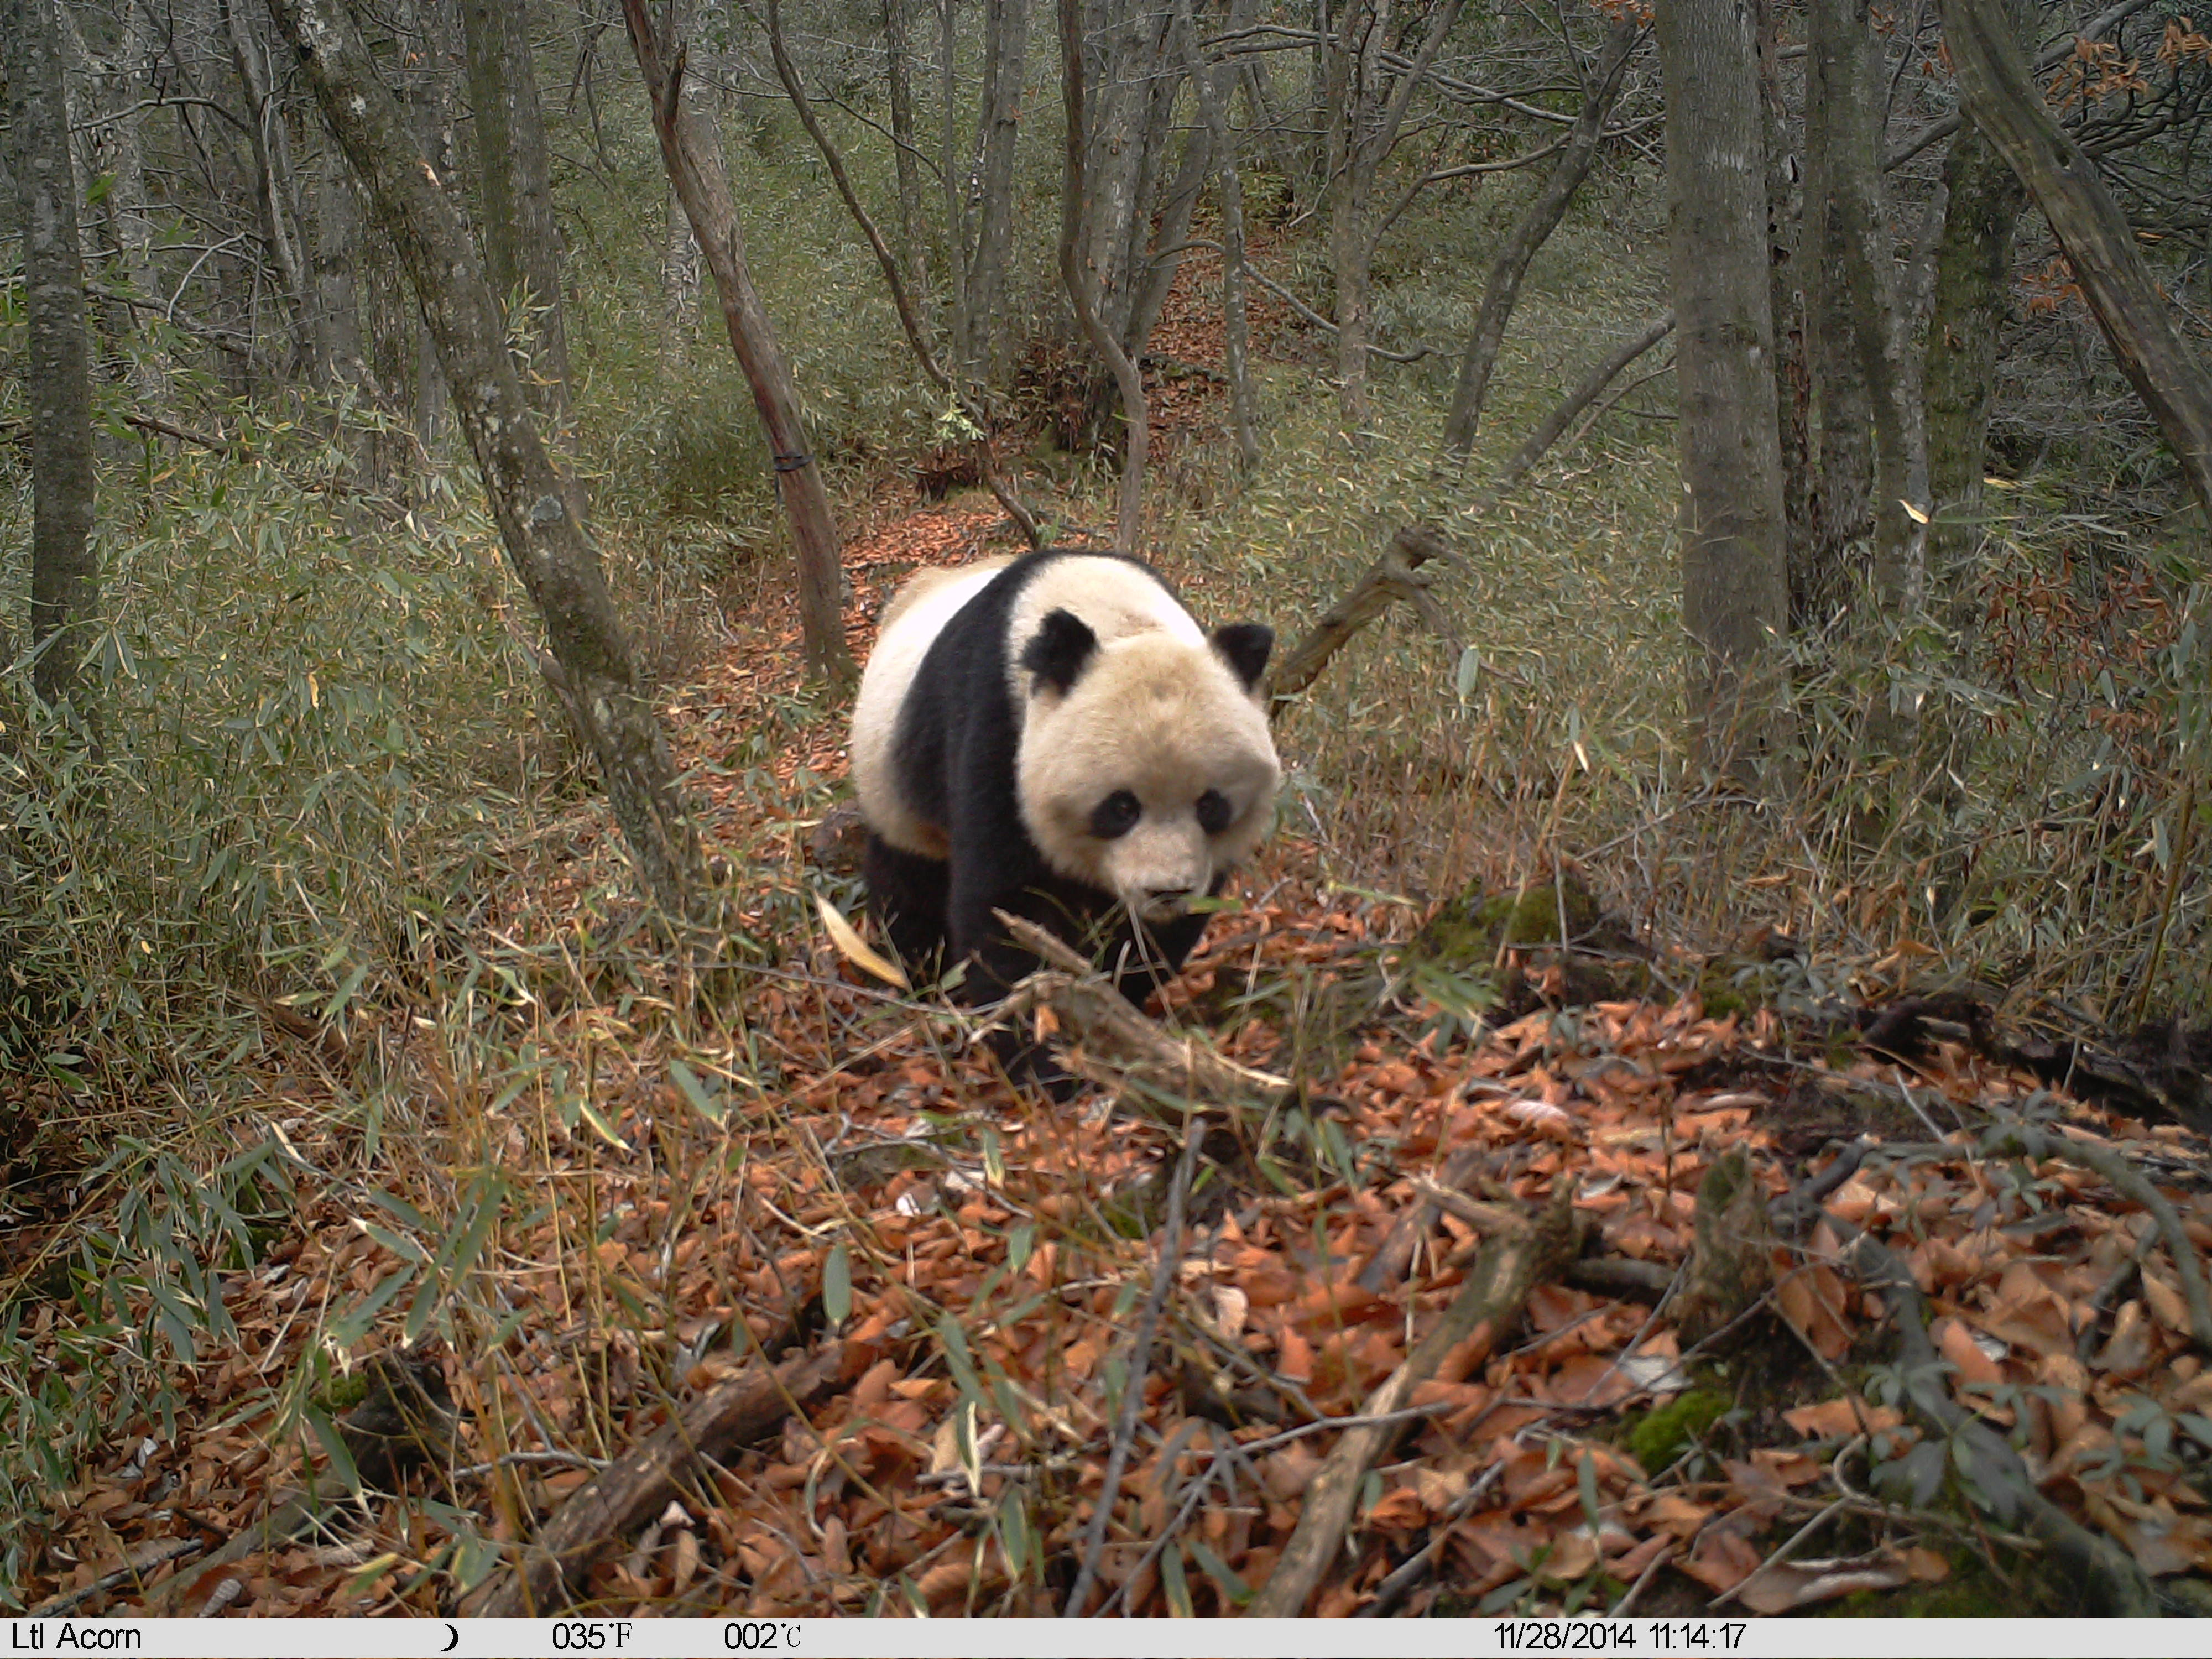panda: (779, 483, 1357, 993)
